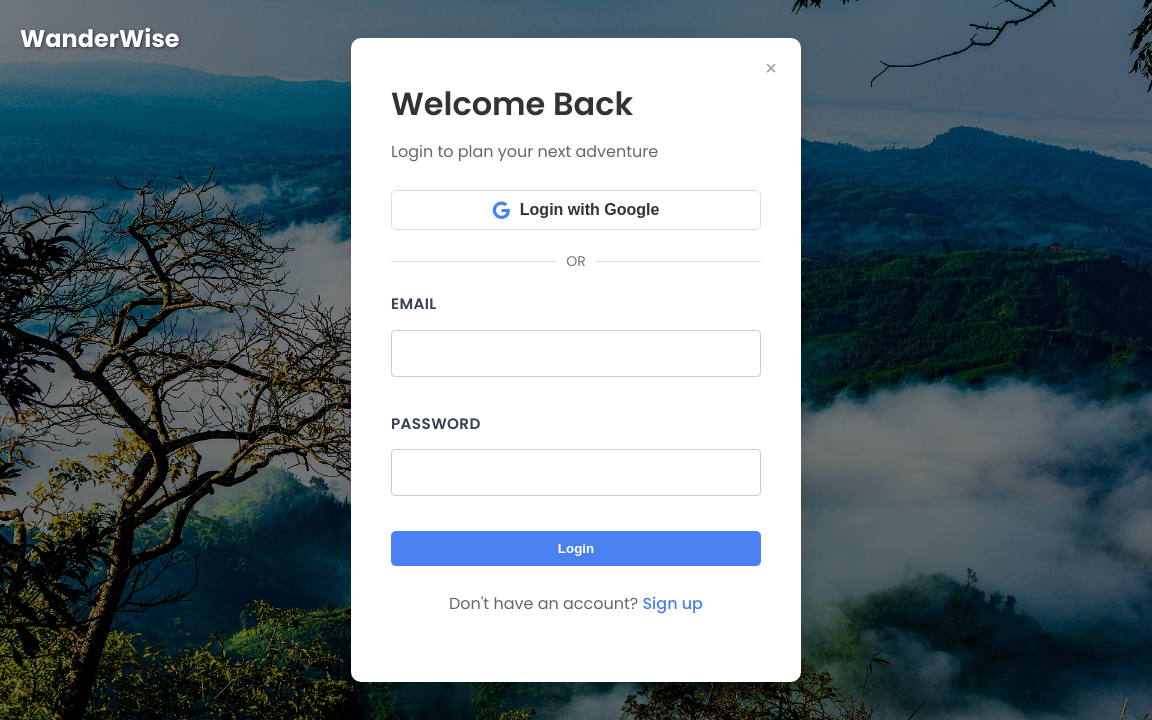
Test: Login Component › handles Google login error
What coordinates should you click on to do the following:
click the button "Login with Google"
I would click on:
 (576, 210)
Its box is [391, 190, 761, 230].
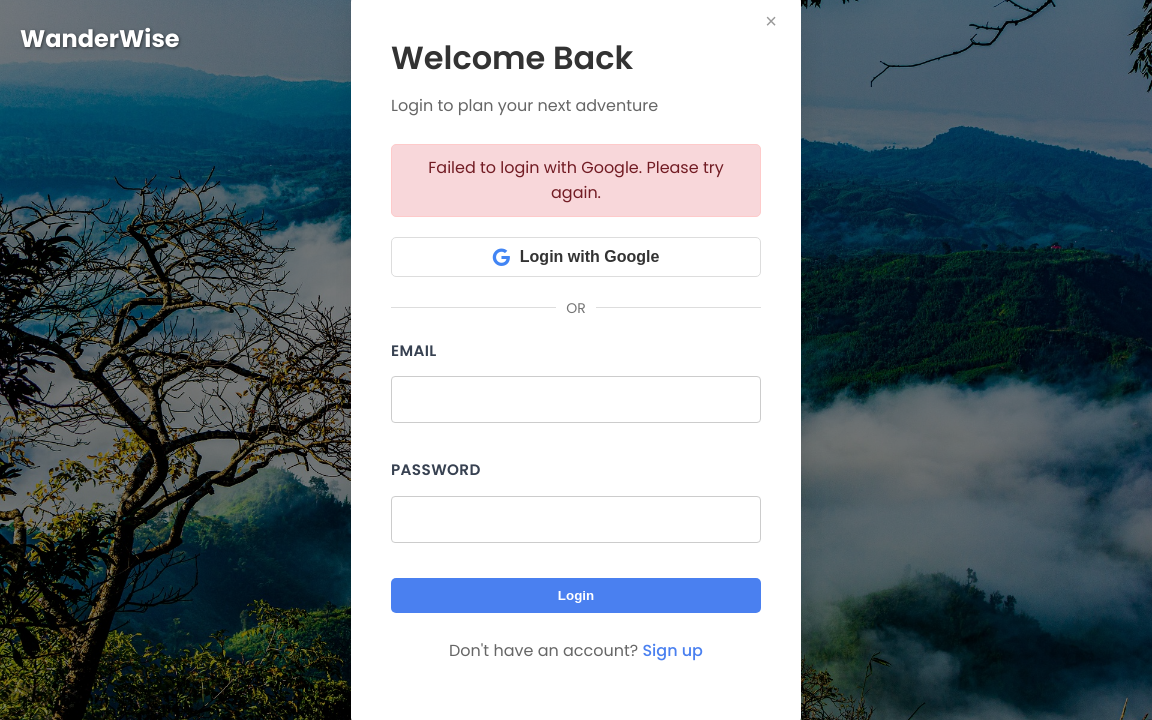
Now the text "Failed to login with Google. Please try again." is shown, box [391, 144, 761, 217]
